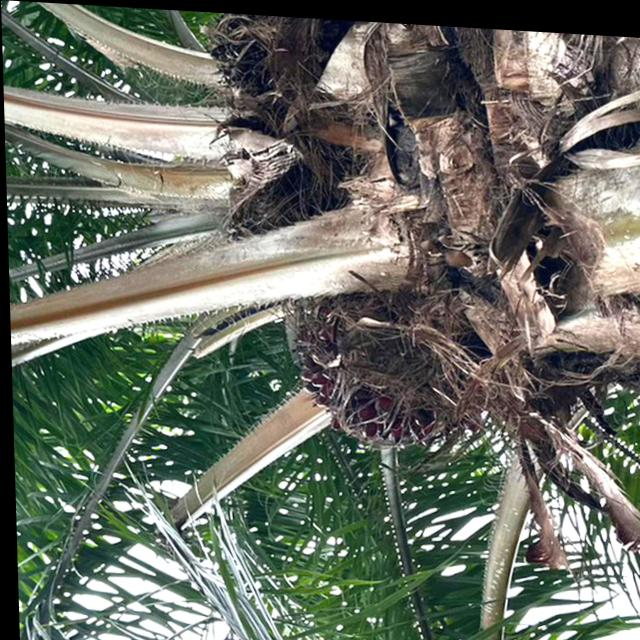ripe: (275, 272, 463, 457)
